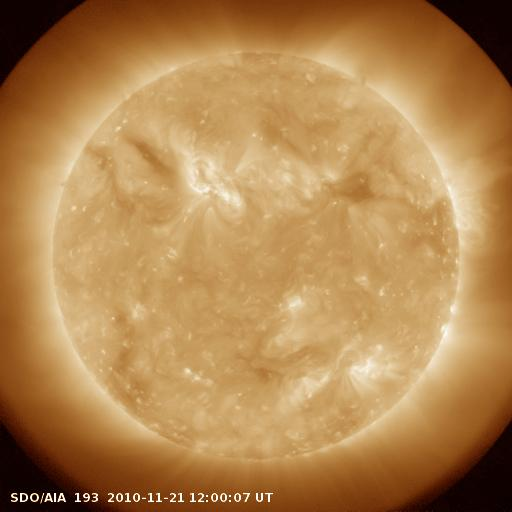coronal_hole: (100, 295, 152, 420), (123, 130, 186, 183), (323, 166, 376, 208)
